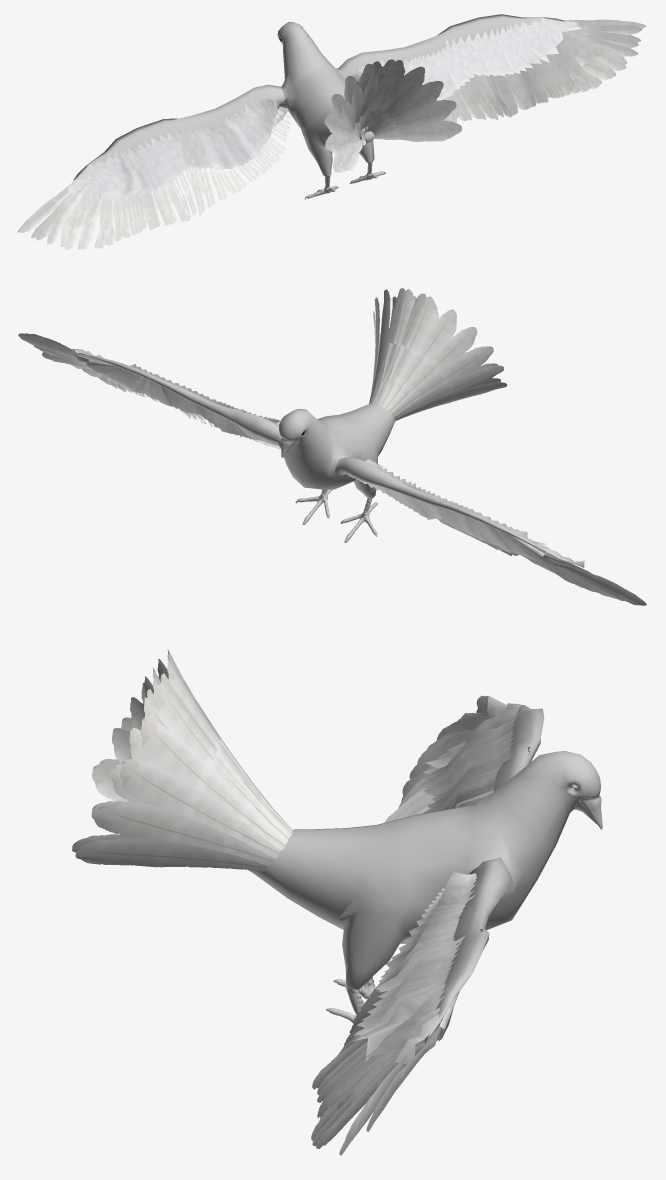
File: pigeon.obj
3 views of the same model, one above another, from view 1: azimuth 30°, elevation 25°; view 2: azimuth 150°, elevation 25°; view 3: azimuth 270°, elevation 25° (orthographic). The views are drawn at different scales.
Visible parts, largest first — view 1: Body, polySurface209, polySurface300, polySurface340, polySurface341, polySurface345, polySurface211, polySurface344, polySurface138, polySurface240, polySurface148, polySurface343 (+8 smaller); view 2: Body, polySurface371, polySurface301, polySurface45, polySurface46, polySurface47, polySurface44, polySurface43, polySurface41, polySurface50, polySurface211, polySurface51 (+5 smaller); view 3: Body, polySurface300, polySurface209, polySurface53, polySurface49, polySurface52, polySurface48, polySurface51, polySurface50, polySurface41, polySurface302, polySurface319.
Boxes of the visible parts, left/top/right/bottom form: Body: left=73, top=14, right=564, bottom=199; polySurface209: left=67, top=97, right=278, bottom=201; polySurface300: left=358, top=17, right=581, bottom=100; polySurface340: left=395, top=124, right=455, bottom=141; polySurface341: left=393, top=106, right=450, bottom=130; polySurface345: left=388, top=90, right=439, bottom=121; polySurface211: left=17, top=184, right=70, bottom=232; polySurface344: left=382, top=77, right=422, bottom=115; polySurface138: left=47, top=192, right=82, bottom=243; polySurface240: left=562, top=32, right=625, bottom=71; polySurface148: left=64, top=186, right=86, bottom=249; polySurface343: left=373, top=71, right=405, bottom=111; Body: left=75, top=352, right=564, bottom=562; polySurface371: left=347, top=474, right=546, bottom=562; polySurface301: left=86, top=359, right=278, bottom=445; polySurface45: left=383, top=309, right=456, bottom=410; polySurface46: left=387, top=327, right=477, bottom=413; polySurface47: left=391, top=346, right=493, bottom=416; polySurface44: left=379, top=296, right=436, bottom=407; polySurface43: left=394, top=365, right=503, bottom=418; polySurface41: left=376, top=289, right=415, bottom=404; polySurface50: left=373, top=293, right=426, bottom=403; polySurface211: left=546, top=557, right=646, bottom=605; polySurface51: left=370, top=288, right=405, bottom=403; Body: left=248, top=705, right=602, bottom=1043; polySurface300: left=351, top=872, right=476, bottom=1065; polySurface209: left=420, top=696, right=521, bottom=813; polySurface53: left=120, top=759, right=280, bottom=858; polySurface49: left=97, top=800, right=275, bottom=865; polySurface52: left=141, top=717, right=286, bottom=850; polySurface48: left=75, top=838, right=268, bottom=871; polySurface51: left=157, top=682, right=289, bottom=842; polySurface50: left=167, top=659, right=292, bottom=836; polySurface41: left=160, top=673, right=292, bottom=832; polySurface302: left=366, top=1022, right=441, bottom=1131; polySurface319: left=322, top=1029, right=441, bottom=1145.
Bounding box in the file's own units: 1.86 × 0.54 × 0.7113.
